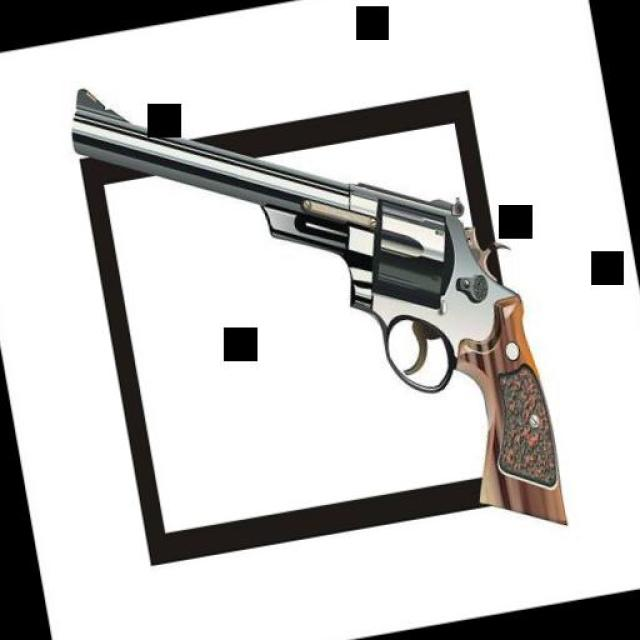gun: (59, 11, 570, 602)
